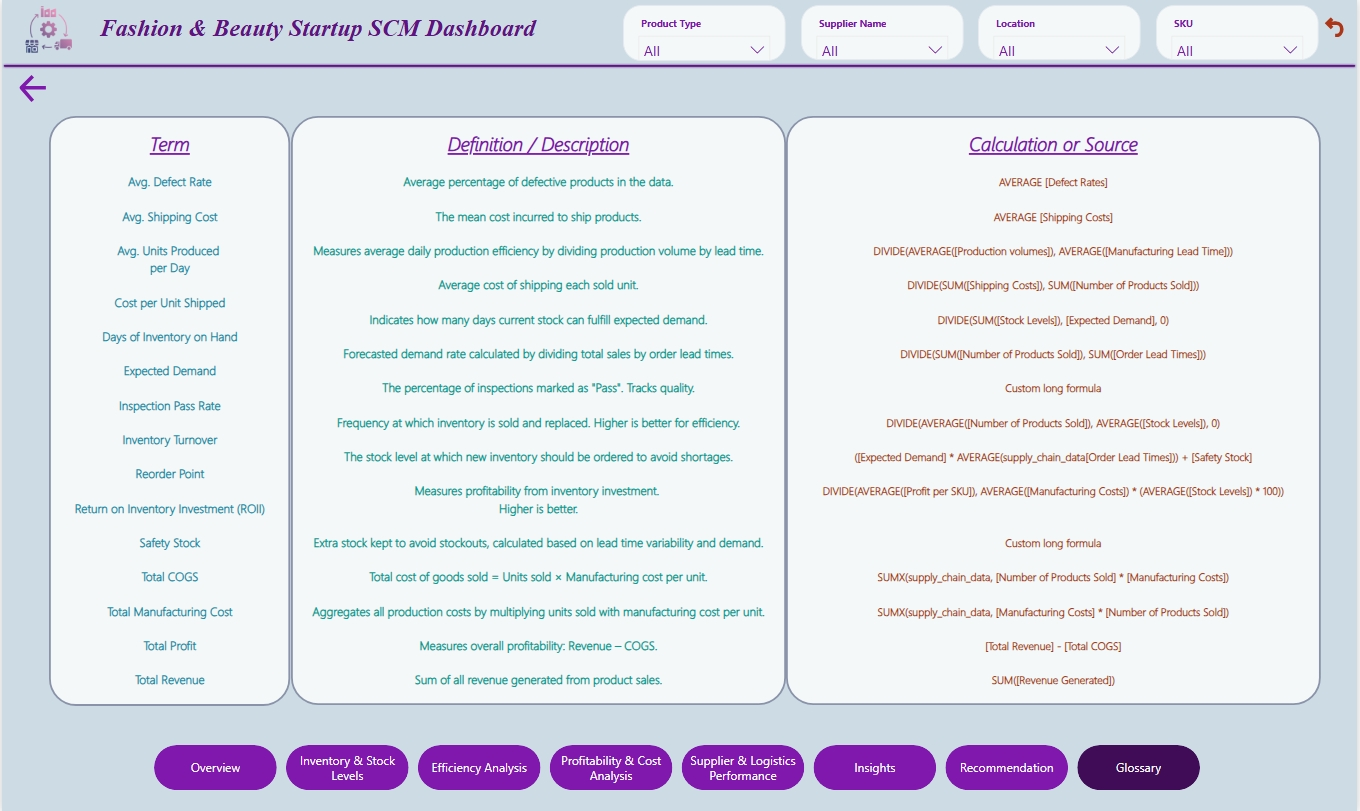

The dashboard page shown, as its layout file describes it:
{"tool":"powerbi","page":{"name":"Glossary","canvas":[1500,900],"ordinal":7},"visuals":[{"type":"textbox","box":[103.2,11,554.4,46],"z":0},{"type":"image","box":[0,0,103.2,65.1],"z":1000},{"type":"shape","box":[0,40,1500.4,66.2],"z":2000},{"type":"pageNavigator","box":[168.3,824.8,1162.6,50.5],"z":3000},{"type":"slicer","fields":{"Values":["supply_chain_data.Product Type"]},"box":[687.6,5,180,62],"z":4000},{"type":"slicer","fields":{"Values":["supply_chain_data.Supplier Name"]},"box":[884.1,5,180,61.1],"z":5000},{"type":"slicer","fields":{"Values":["supply_chain_data.Location"]},"box":[1080.5,5,180,61.1],"z":6000},{"type":"slicer","fields":{"Values":["supply_chain_data.SKU"]},"box":[1277,5,180,61.1],"z":7000},{"type":"actionButton","box":[1460,0,40,60.5],"z":8000},{"type":"actionButton","box":[15.5,78.8,99.9,39.4],"z":9000},{"type":"textbox","box":[52.1,128.1,267.5,653.2],"z":10000},{"type":"textbox","box":[319.7,128.6,547.9,652.1],"z":11000},{"type":"textbox","box":[867.6,128.6,591.9,652.1],"z":12000}]}

Visuals, with their boxes in screenshot pixels (x1, y1, x2, y2), scaled from the page's 1500x900 canvas onto the 1360x811 screenshot:
textbox: Rect(94, 10, 596, 51)
image: Rect(0, 0, 94, 59)
shape: Rect(0, 36, 1359, 96)
pageNavigator: Rect(153, 743, 1207, 789)
slicer - supply_chain_data.Product Type: Rect(623, 5, 787, 60)
slicer - supply_chain_data.Supplier Name: Rect(802, 5, 965, 60)
slicer - supply_chain_data.Location: Rect(980, 5, 1143, 60)
slicer - supply_chain_data.SKU: Rect(1158, 5, 1321, 60)
actionButton: Rect(1324, 0, 1359, 55)
actionButton: Rect(14, 71, 105, 107)
textbox: Rect(47, 115, 290, 704)
textbox: Rect(290, 116, 787, 703)
textbox: Rect(787, 116, 1323, 703)
